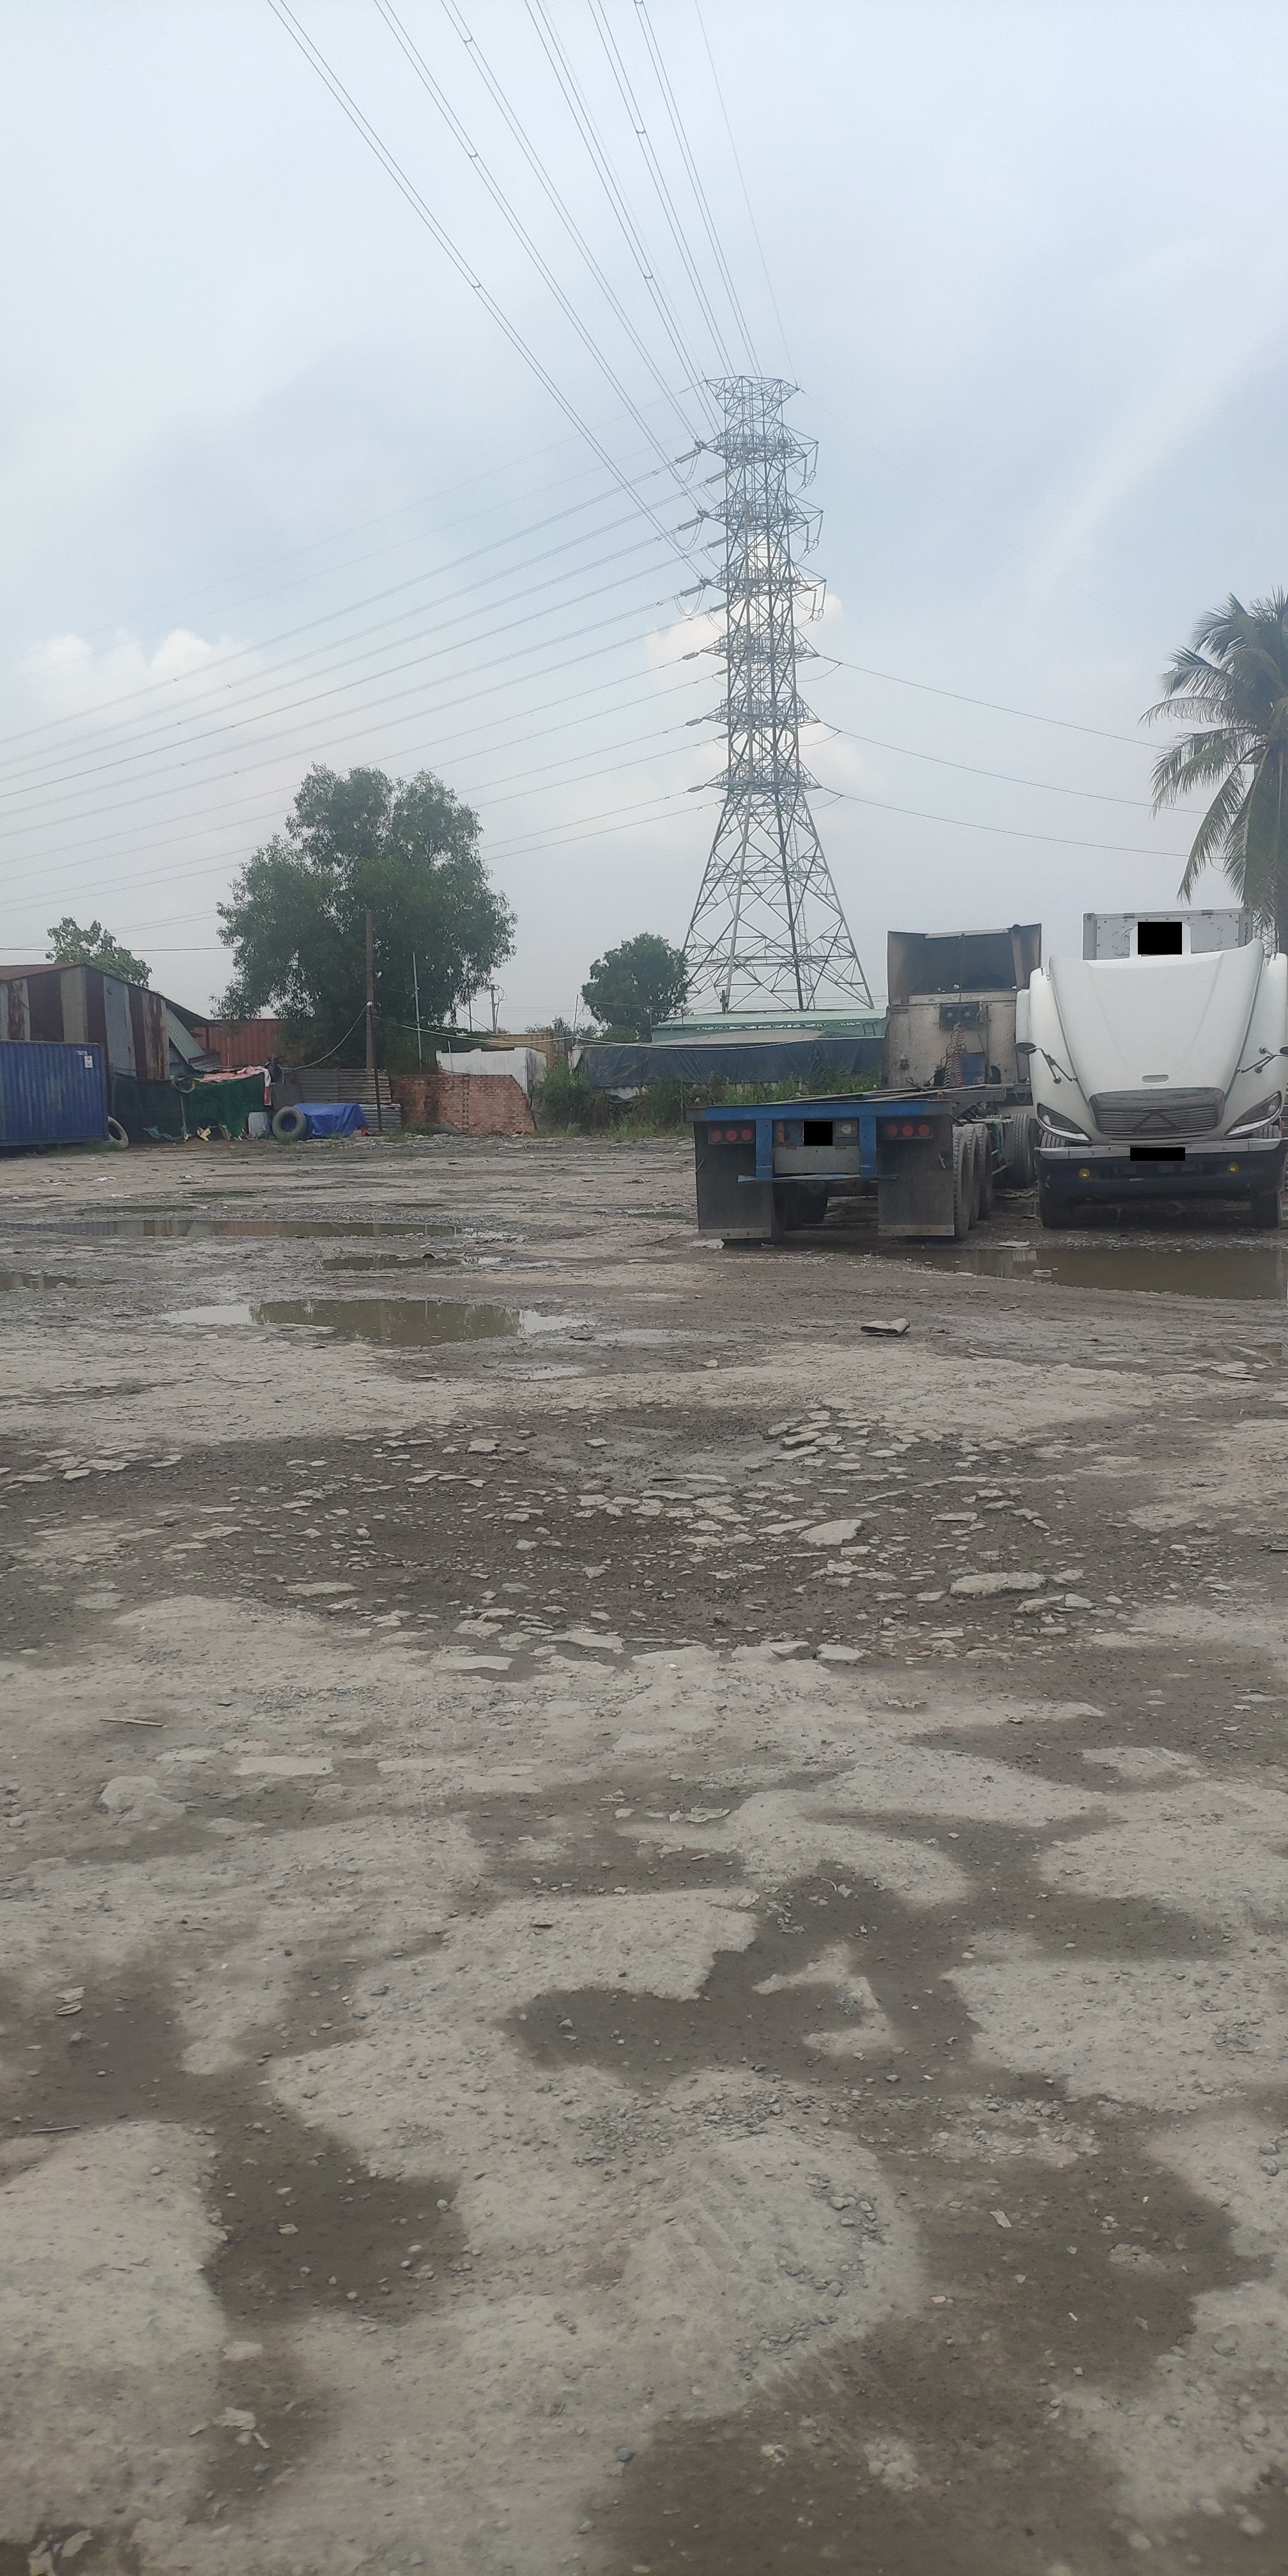hole: (261, 1437, 1038, 1664), (153, 1293, 600, 1344), (951, 1237, 1288, 1303), (2, 1216, 488, 1240), (315, 1250, 517, 1275), (0, 1265, 135, 1295), (71, 1201, 204, 1217), (172, 1184, 269, 1201), (618, 1207, 697, 1226)
